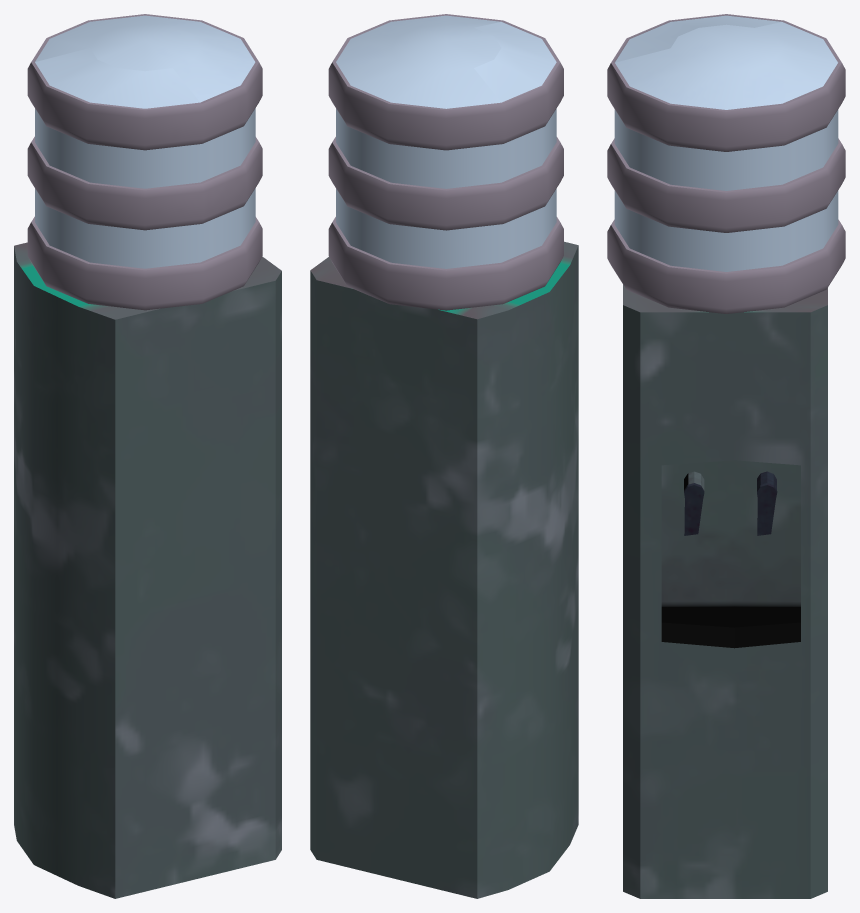
The model's file is Watercooler.fbx.
The picture shows the model from 3 angles, left to right: view 1: azimuth 30°, elevation 25°; view 2: azimuth 150°, elevation 25°; view 3: azimuth 270°, elevation 25°; orthographic projection.
Parts seen in each view (by area): view 1: watercooler2; view 2: watercooler2; view 3: watercooler2.
Boxes of the visible parts, x1,y1,x2,y2 form: watercooler2: (14,14,281,898); watercooler2: (310,14,578,898); watercooler2: (607,14,845,898).
Size of the model in its own units: 33.15 by 121 by 32.28.
